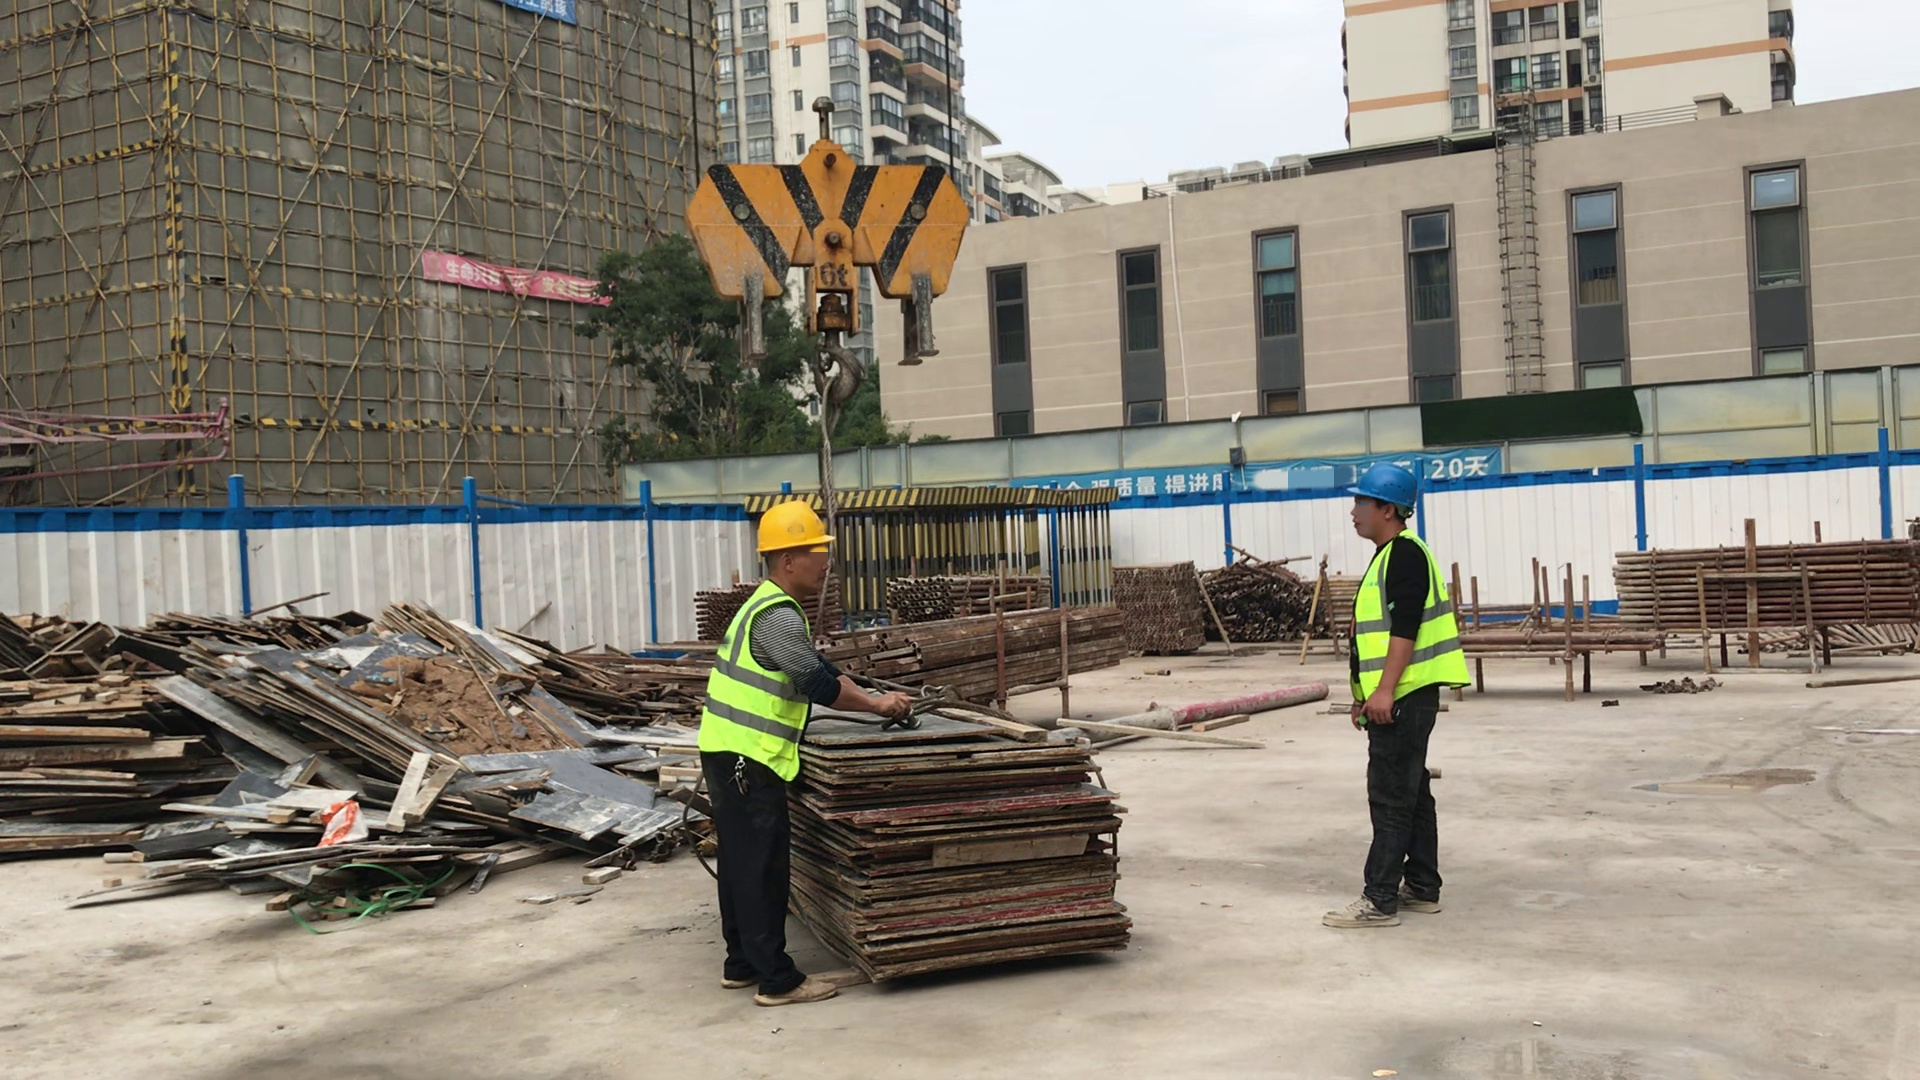board: (807, 735, 1147, 979)
helmet: (757, 506, 839, 557), (1351, 462, 1418, 509)
hook: (683, 145, 970, 408)
person: (704, 502, 917, 1004), (1333, 460, 1459, 943)
scaffold: (1615, 541, 1914, 633), (1109, 567, 1196, 648), (896, 574, 1051, 618)
slogan: (1048, 447, 1500, 491), (420, 242, 613, 302), (493, 1, 588, 20)
vest: (1353, 530, 1469, 709), (709, 581, 805, 785)
